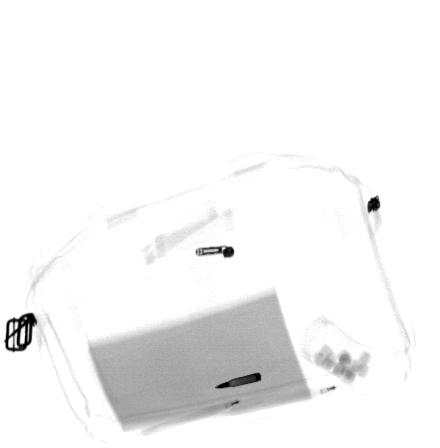Bullet: (211, 371, 262, 389)
